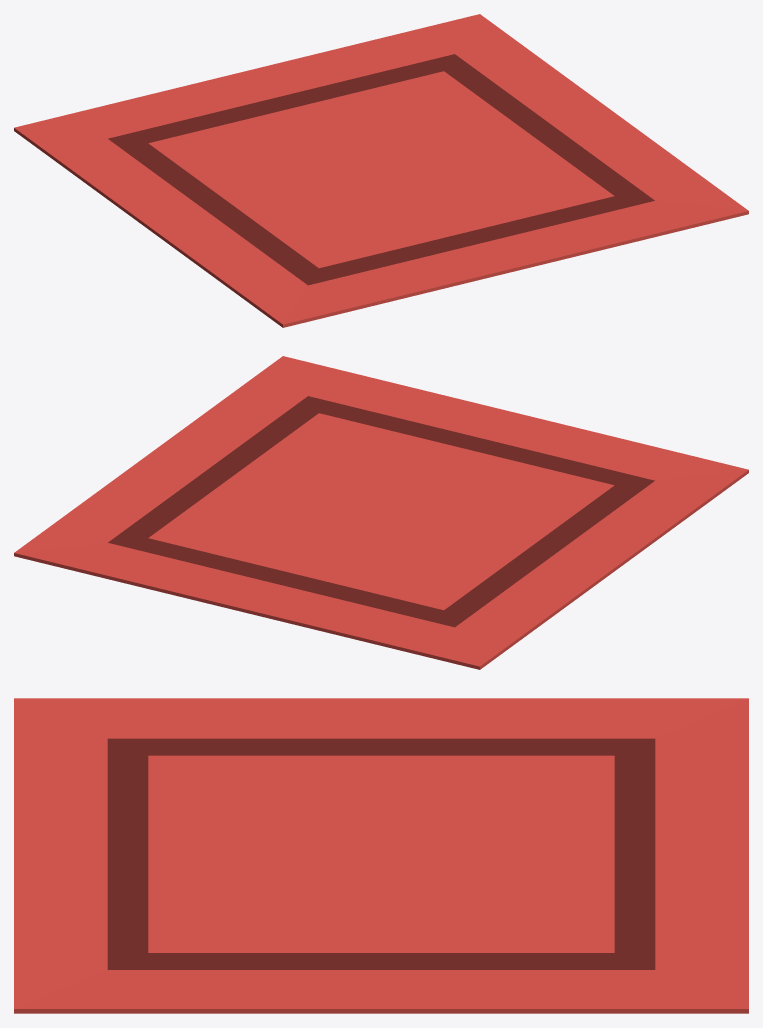
The model's file is rugSquare.fbx.
3 renders of one model, top to bottom at view 1: azimuth 30°, elevation 25°; view 2: azimuth 150°, elevation 25°; view 3: azimuth 270°, elevation 25°, orthographic. The views are drawn at different scales.
Parts seen in each view (by area): view 1: Cube; view 2: Cube; view 3: Cube.
Part boxes in pixels (x1=…): Cube: x1=14, y1=14, x2=748, y2=327; Cube: x1=14, y1=356, x2=748, y2=669; Cube: x1=14, y1=698, x2=748, y2=1013.
Size of the model in its own units: 1729 by 11.9 by 1729.
